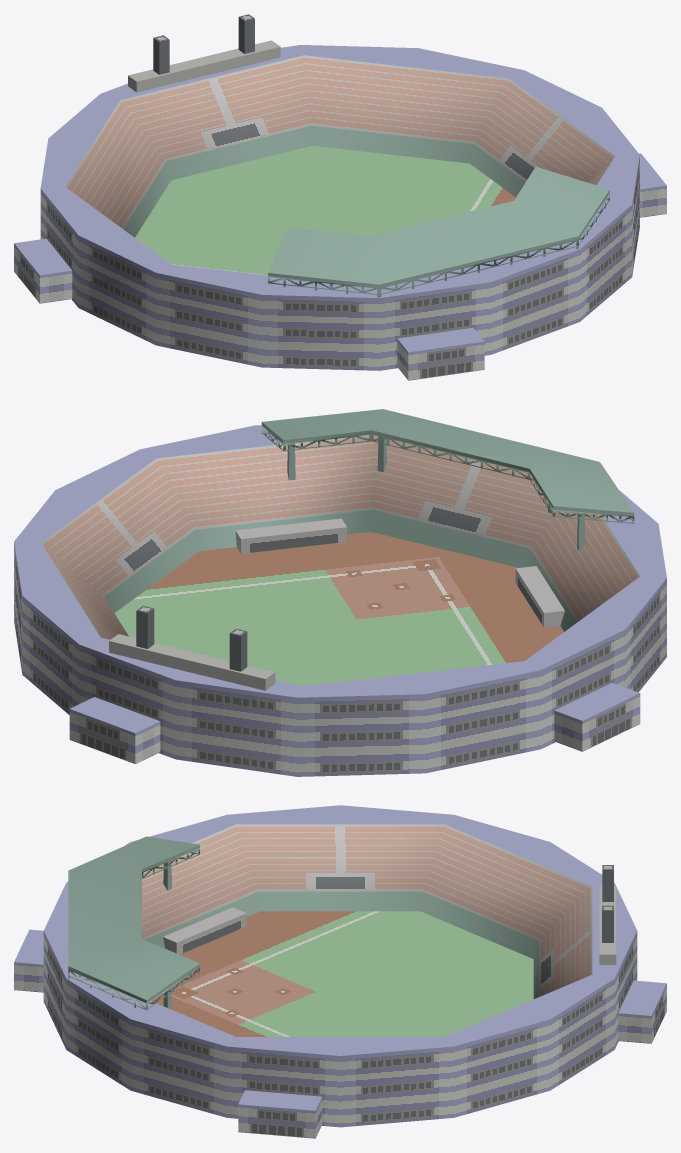
File: 02c7_Stadium.glb
The picture shows the model from 3 angles, top to bottom: view 1: azimuth 30°, elevation 25°; view 2: azimuth 150°, elevation 25°; view 3: azimuth 270°, elevation 25°; orthographic projection. The views are drawn at different scales.
Parts seen in each view (by area): view 1: part_0; view 2: part_0; view 3: part_0.
Part boxes in pixels (box(x1,y1,x2,y2)): part_0: box(14, 14, 666, 380); part_0: box(14, 409, 666, 776); part_0: box(14, 805, 666, 1138).
Bounding box in the file's own units: 198 × 38.23 × 198.
Materials: 1 (1 with a texture image).
